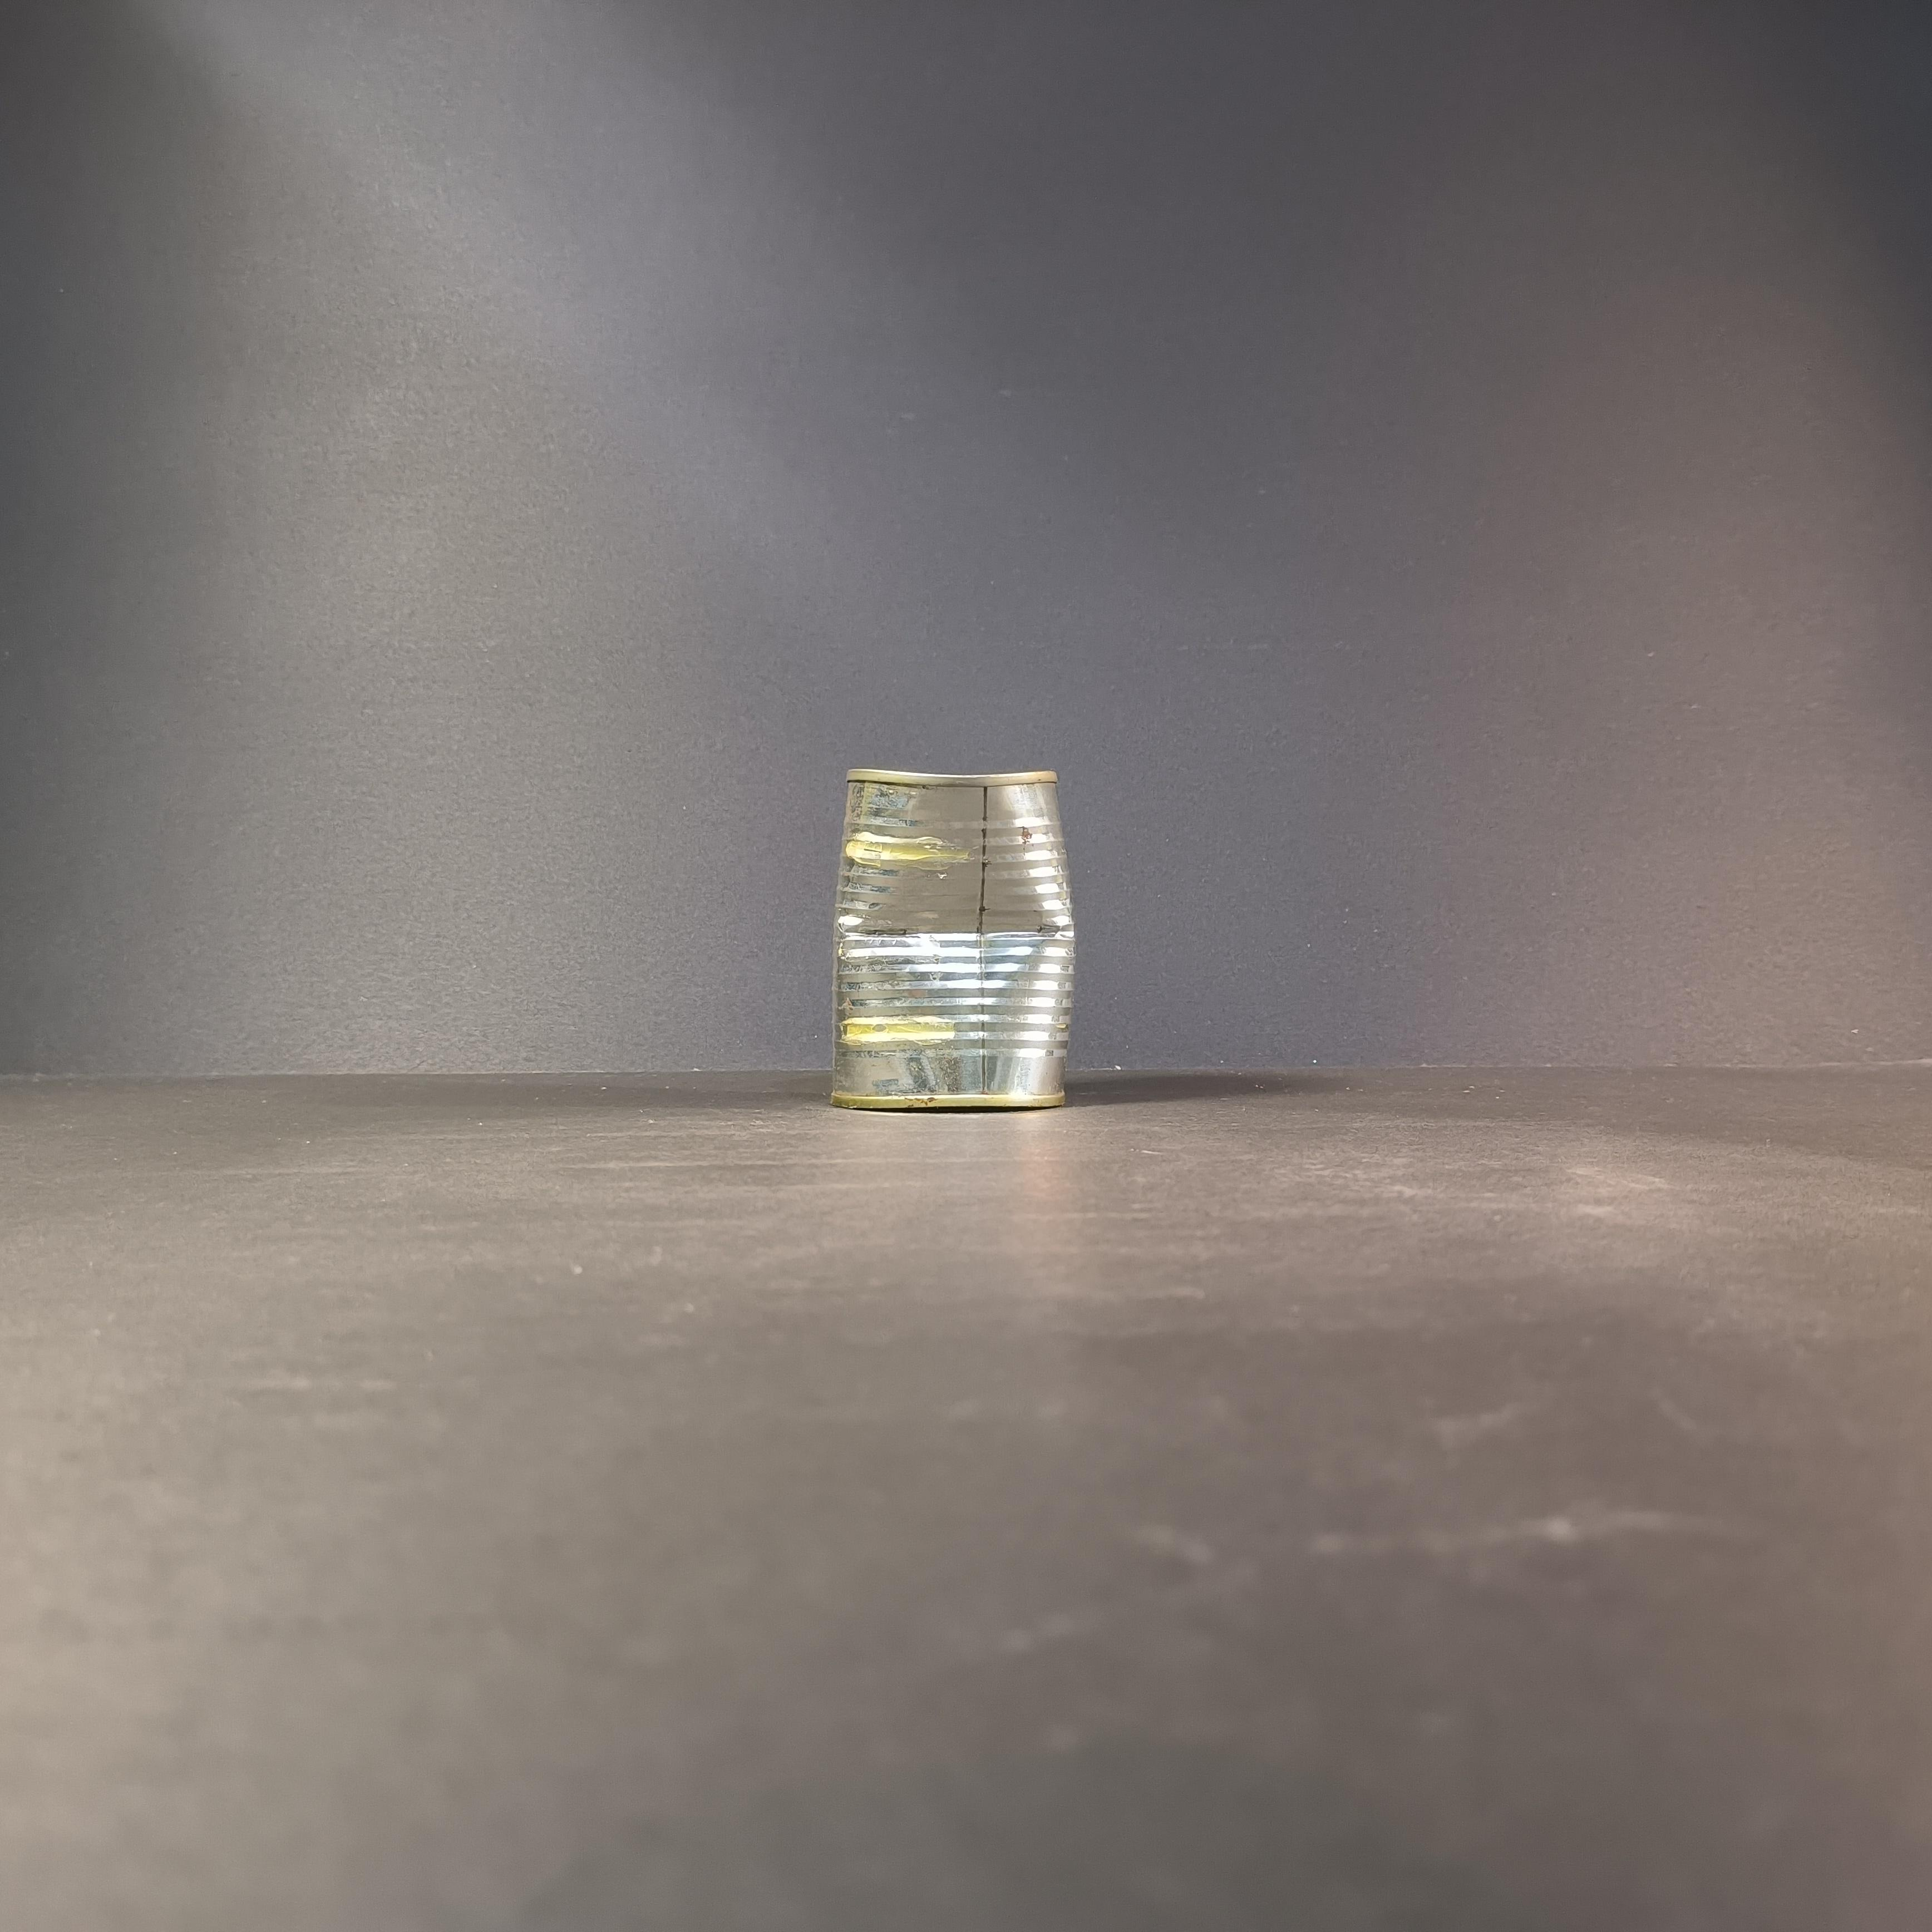Dented: (807, 732, 1099, 1113)
